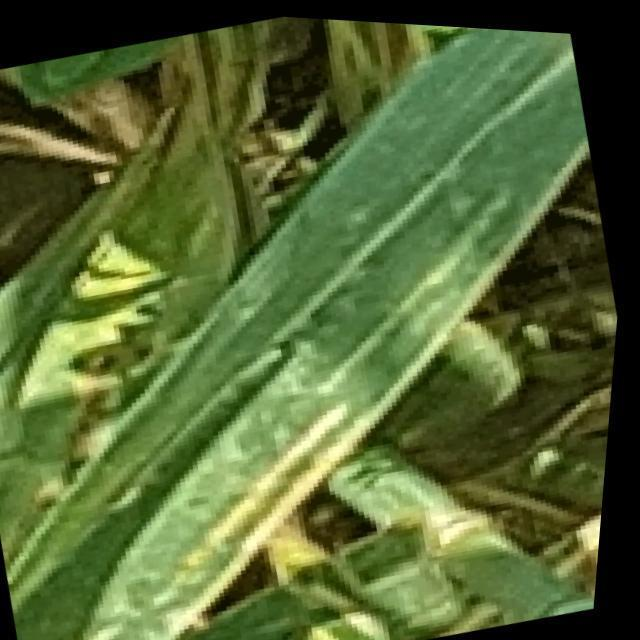Yellow_Rust: (82, 55, 566, 635)
